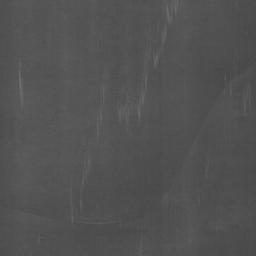Silk spot: (111, 88, 120, 128), (152, 8, 165, 32), (221, 72, 233, 89), (247, 87, 256, 109), (126, 229, 148, 235), (130, 115, 138, 131)
